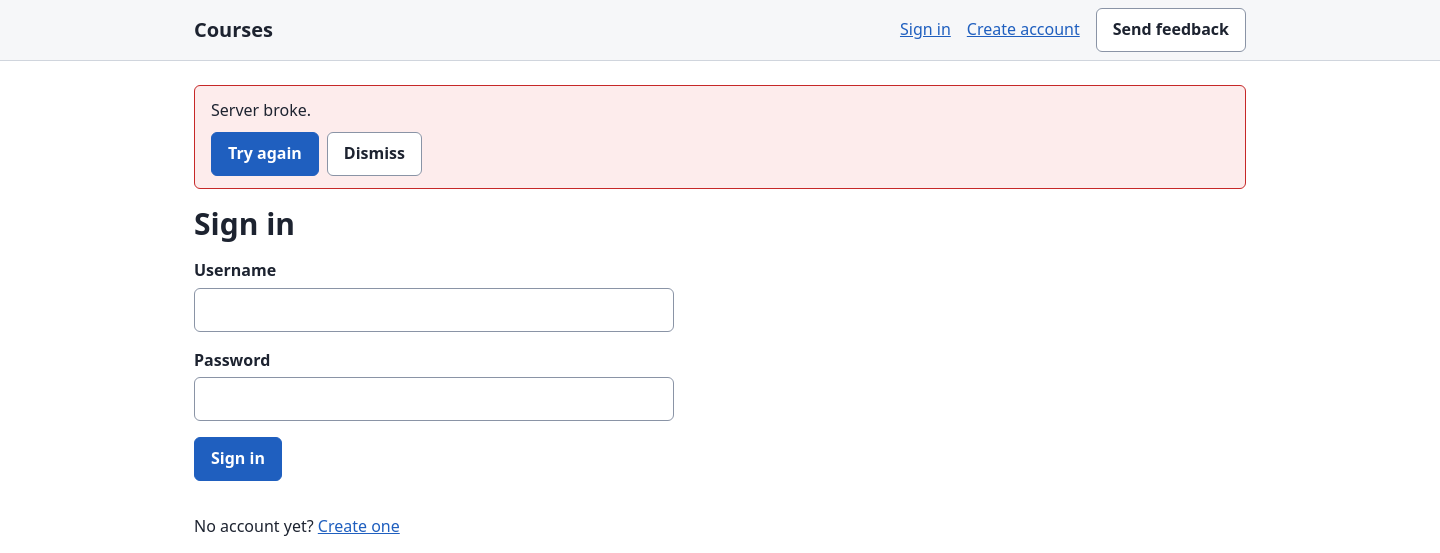
Test: removes the banner and moves focus to the h1 when it is dismissed
Step 1. Click the button "Dismiss" → (374, 154), box left=327, top=132, right=422, bottom=176
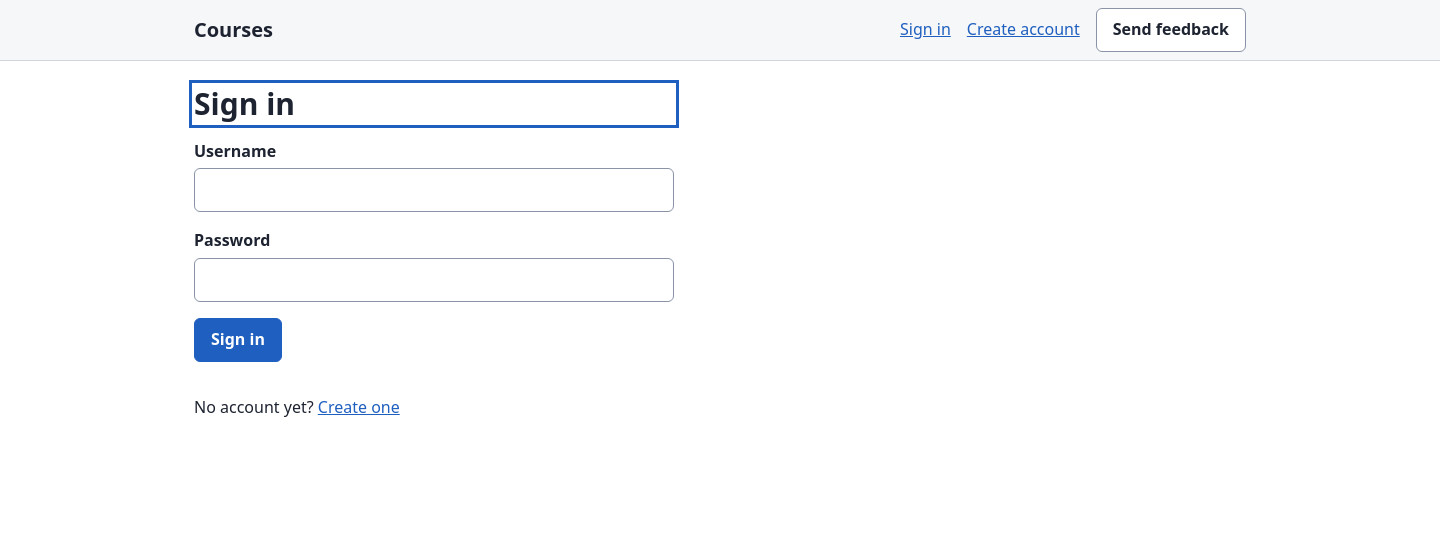
Result: the message "Server broke. Try again Dismiss" is gone
